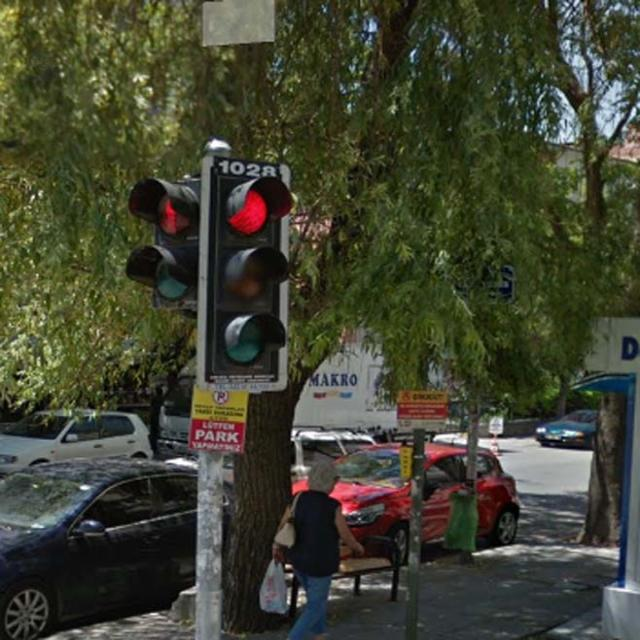kirmizi: (212, 156, 283, 385)
